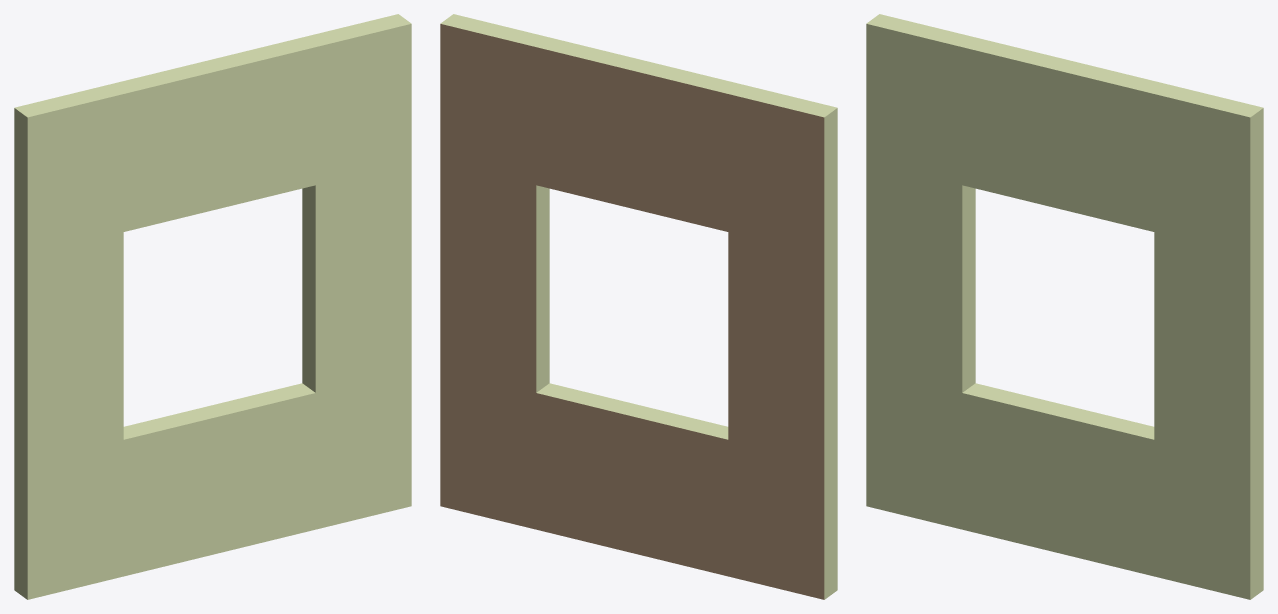
File: Wall2_C5_04.fbx
3 renders of one model, left to right at view 1: azimuth 30°, elevation 25°; view 2: azimuth 150°, elevation 25°; view 3: azimuth 330°, elevation 25°, orthographic.
Parts seen in each view (by area): view 1: Wall2_C5_04; view 2: Wall2_C5_04; view 3: Wall2_C5_04.
Boxes of the visible parts, x1,y1,x2,y2 form: Wall2_C5_04: (14, 14, 411, 599); Wall2_C5_04: (440, 14, 837, 599); Wall2_C5_04: (866, 14, 1263, 599).
Bounding box in the file's own units: 250 × 300 × 15.
